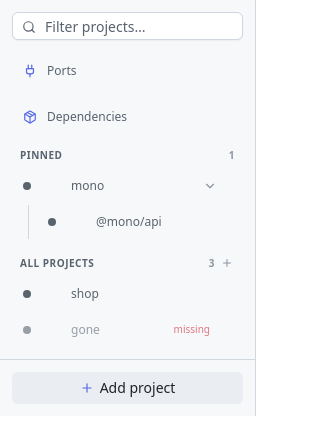
Test: Sidebar › nests workspaces, selects them and collapses the group
The width and height of the screenshot is (320, 433).
Click the button "@mono/api" at (129, 222), box x1=37 y1=205 x2=221 y2=239
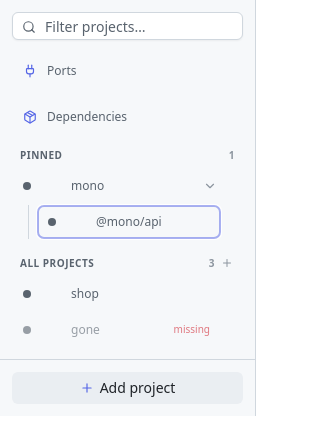
Click the button named "Collapse mono" at (210, 186), box x1=199 y1=175 x2=221 y2=197
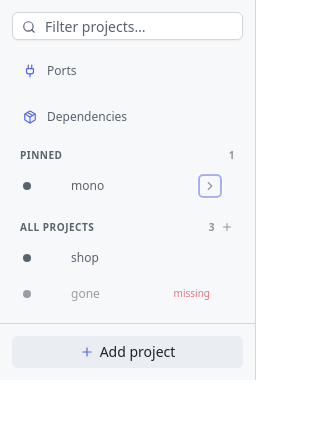
Result: the button "@mono/api" is gone
Result: the button named "Expand mono" is collapsed at x1=199 y1=175 x2=221 y2=197
